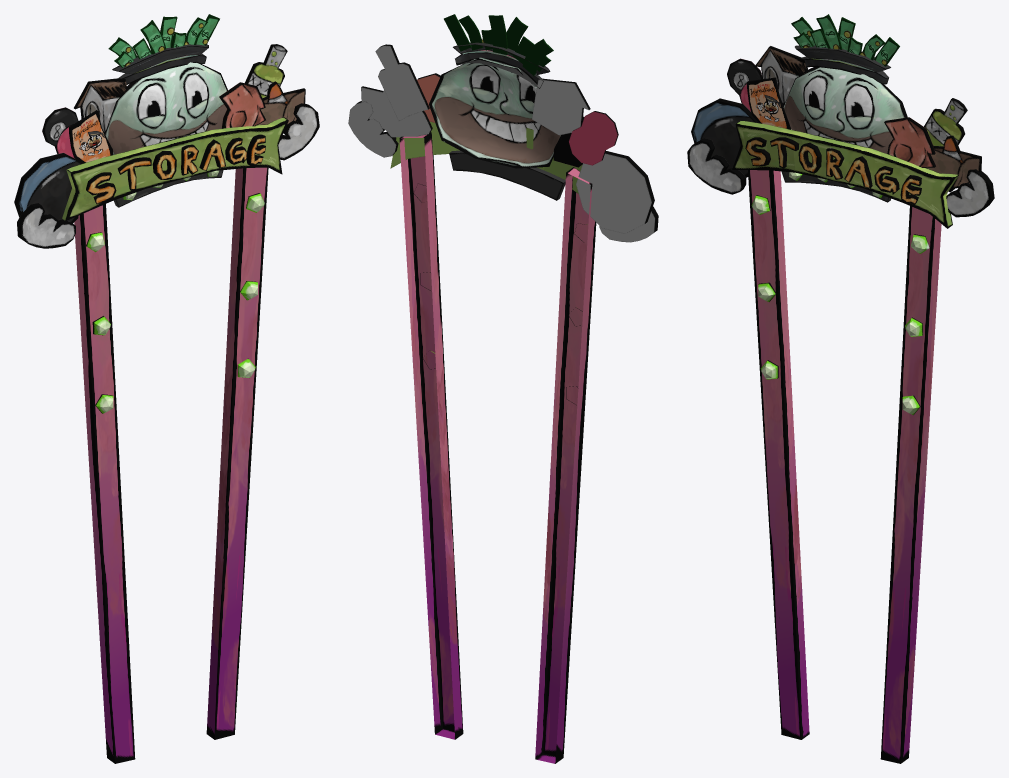
File: Storage Arch.glb
3 renders of one model, left to right at view 1: azimuth 30°, elevation 25°; view 2: azimuth 150°, elevation 25°; view 3: azimuth 330°, elevation 25°, orthographic.
Parts seen in each view (by area): view 1: Storage; view 2: Storage; view 3: Storage.
Boxes of the visible parts, left/top/right/bottom form: Storage: left=14, top=14, right=319, bottom=763; Storage: left=348, top=14, right=658, bottom=763; Storage: left=687, top=14, right=994, bottom=763.
Bounding box in the file's own units: 3.51 × 8.11 × 0.4413.
Materials: 2 (2 with a texture image).
